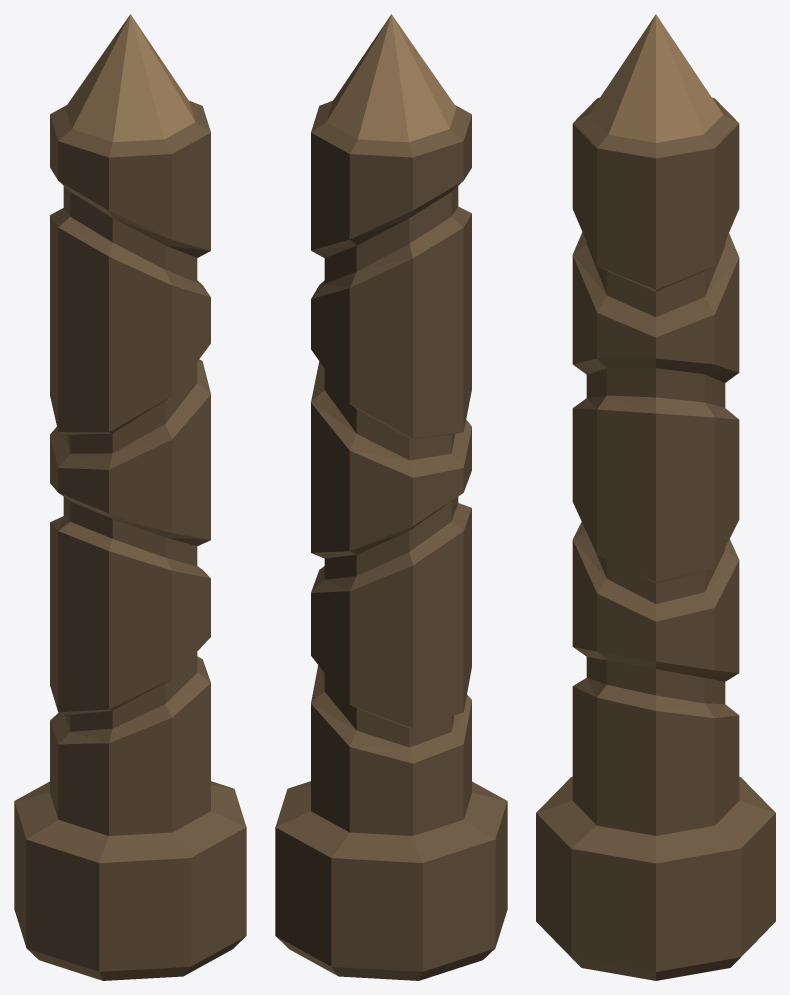
Rendered from Espiga_09.glb.
3 renders of one model, left to right at view 1: azimuth 30°, elevation 25°; view 2: azimuth 150°, elevation 25°; view 3: azimuth 270°, elevation 25°, orthographic.
Visible parts, largest first — view 1: SM_Prop_Pole_03; view 2: SM_Prop_Pole_03; view 3: SM_Prop_Pole_03.
Boxes of the visible parts, x1,y1,x2,y2 form: SM_Prop_Pole_03: (14, 14, 246, 980); SM_Prop_Pole_03: (275, 14, 507, 980); SM_Prop_Pole_03: (536, 14, 775, 980).
Bounding box in the file's own units: 0.3879 × 1.65 × 0.3879.
1 material, 1 textured.
